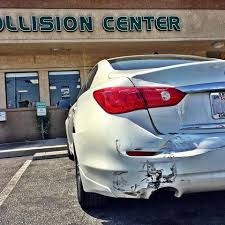Dent: (113, 113, 203, 193)
Scratch: (143, 162, 180, 186)
